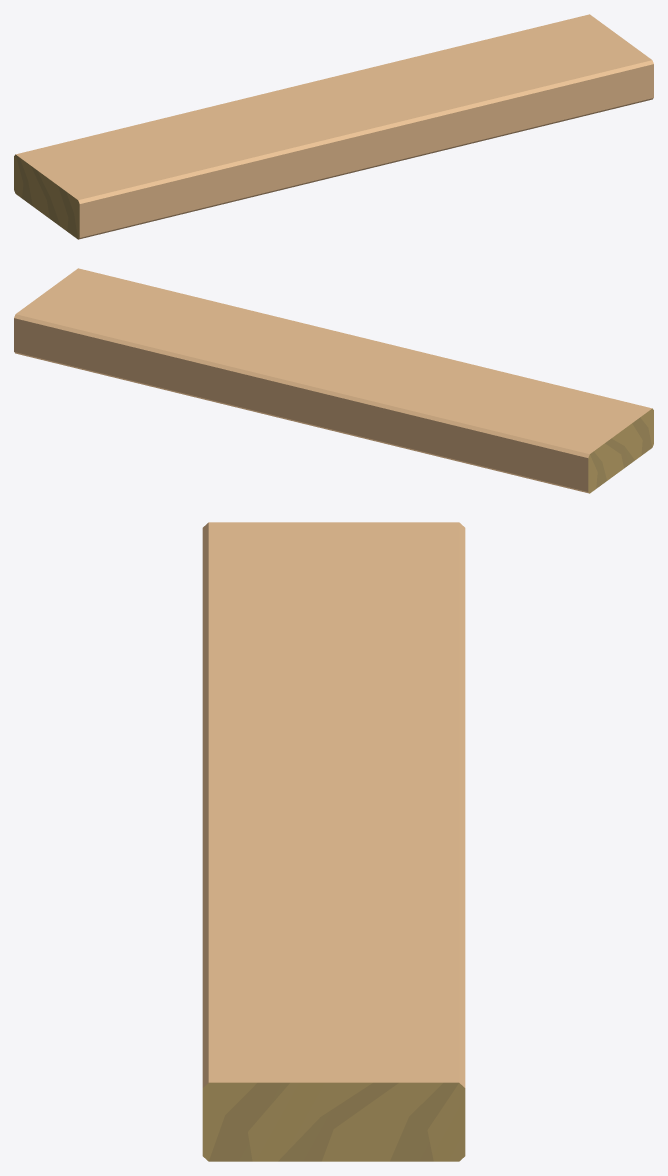
The model's file is Resources_Beam.FBX.
3 views of the same model, one above another, from view 1: azimuth 30°, elevation 25°; view 2: azimuth 150°, elevation 25°; view 3: azimuth 270°, elevation 25° (orthographic). The views are drawn at different scales.
Visible parts, largest first — view 1: Resources_Beam; view 2: Resources_Beam; view 3: Resources_Beam.
Part boxes in pixels (<box>): Resources_Beam: <box>14,14,653,239</box>; Resources_Beam: <box>14,268,653,493</box>; Resources_Beam: <box>202,522,465,1161</box>.
Bounding box in the file's own units: 240 × 15.76 × 47.62.
1 material, 1 textured.
